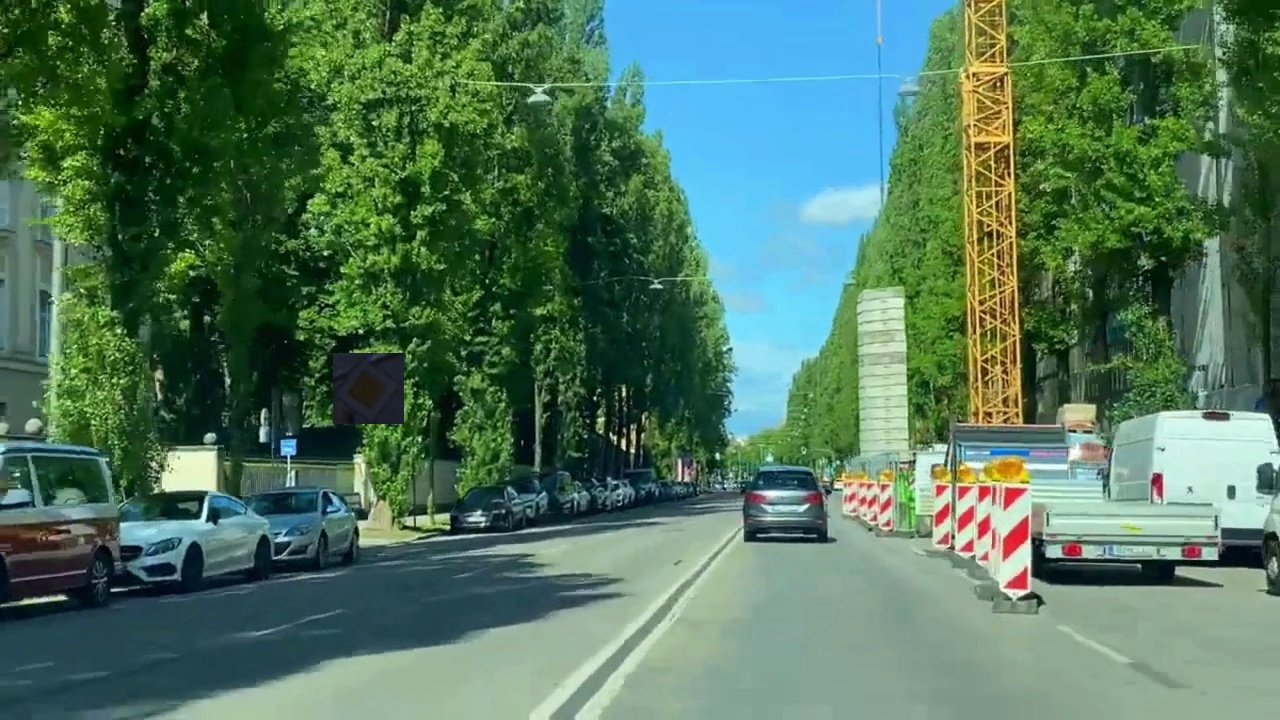Priority road: (333, 353, 404, 424)
